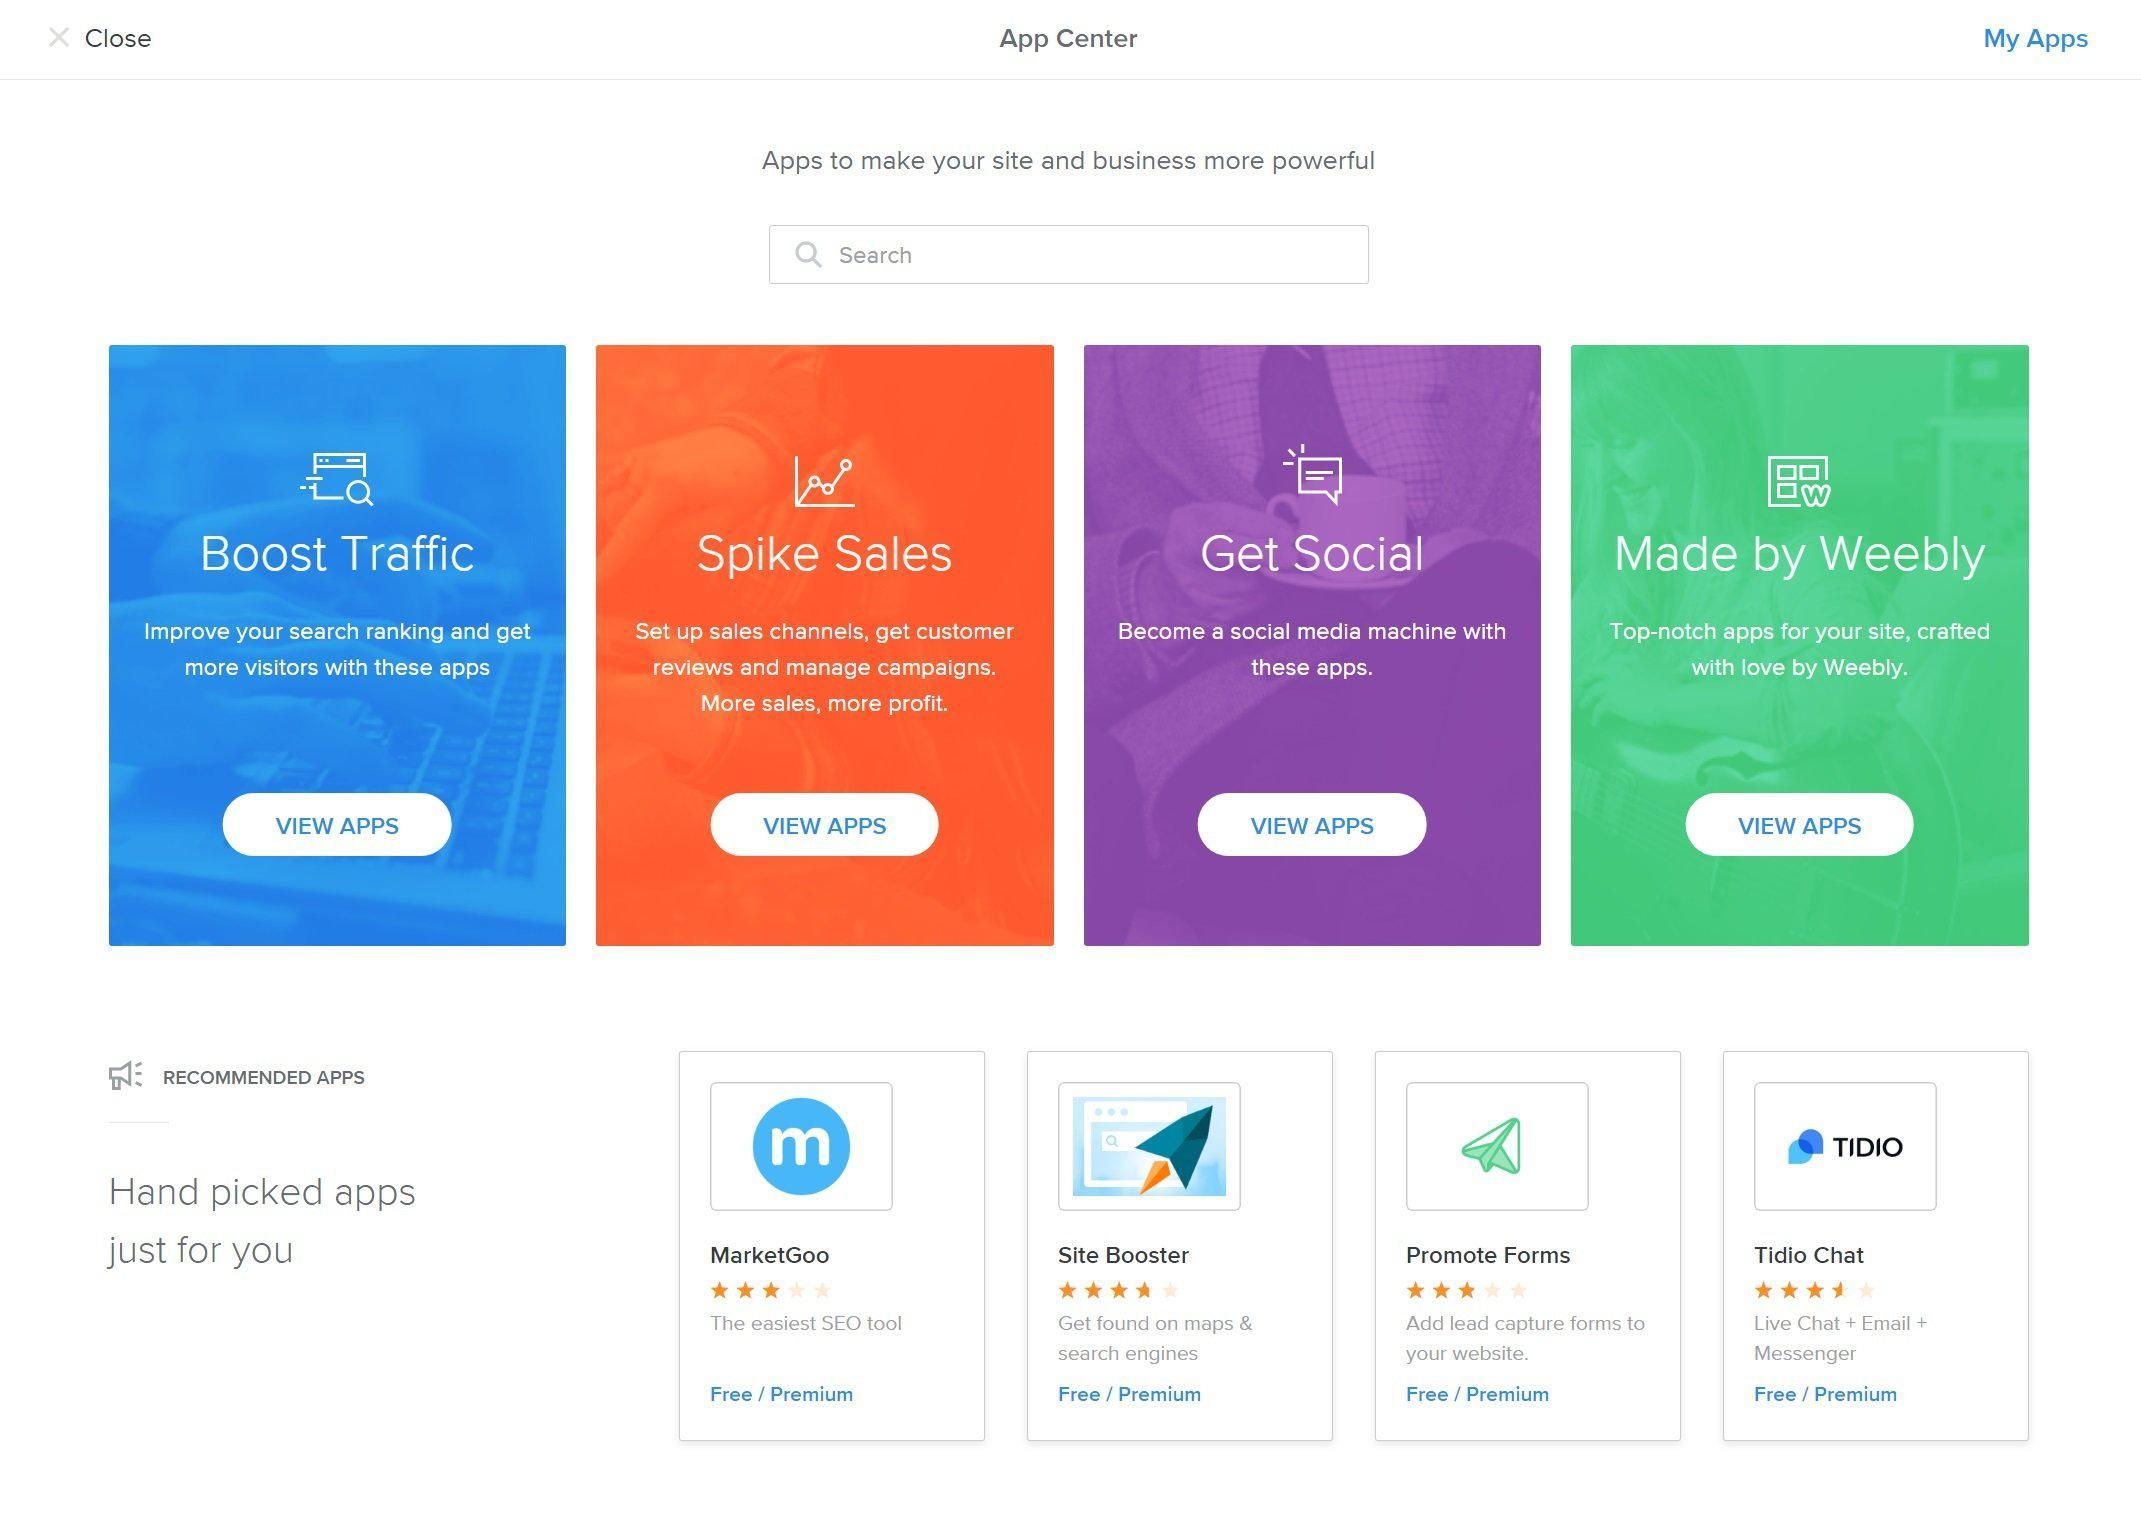button: (225, 792, 459, 861), (1685, 792, 1918, 861), (1198, 793, 1431, 859), (710, 793, 942, 859)
icon: (45, 23, 73, 55)
input: (773, 223, 1365, 291)
label: (975, 15, 1175, 61), (1979, 21, 2100, 63), (83, 25, 165, 55)
